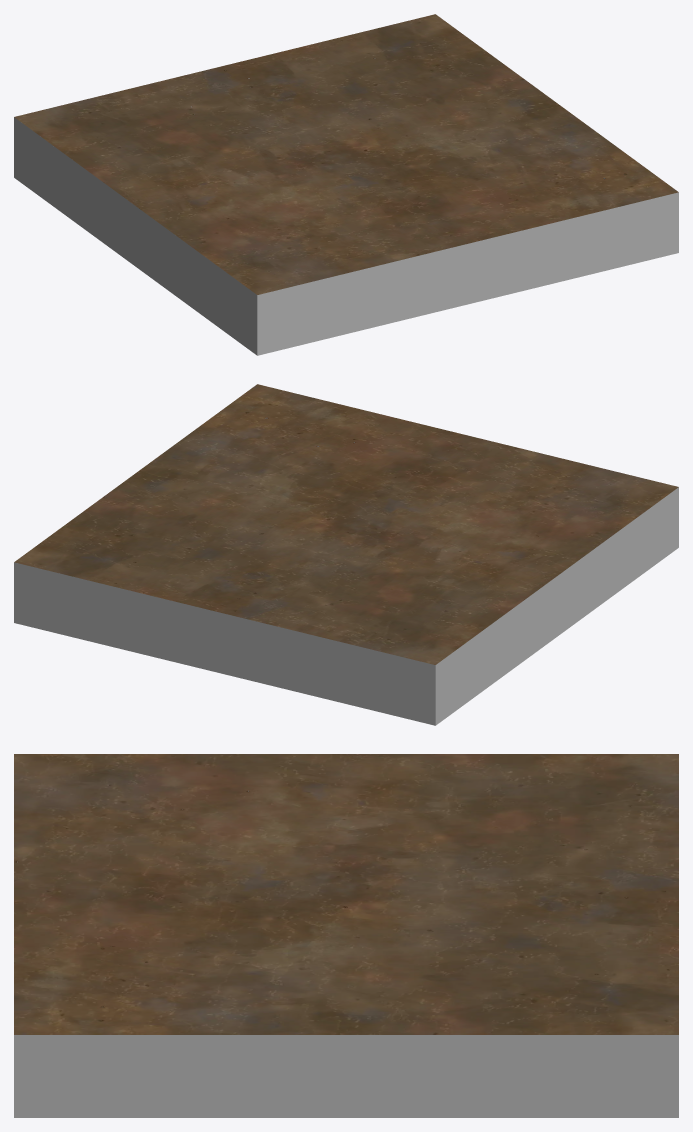
The picture shows the model from 3 angles, top to bottom: view 1: azimuth 30°, elevation 25°; view 2: azimuth 150°, elevation 25°; view 3: azimuth 270°, elevation 25°; orthographic projection. The views are drawn at different scales.
Visible parts, largest first — view 1: SM_Vault_4x4_Ceiling_01_LOD0; view 2: SM_Vault_4x4_Ceiling_01_LOD0; view 3: SM_Vault_4x4_Ceiling_01_LOD0.
Part boxes in pixels (left/top/right/bottom): SM_Vault_4x4_Ceiling_01_LOD0: left=14, top=14, right=678, bottom=355; SM_Vault_4x4_Ceiling_01_LOD0: left=14, top=384, right=678, bottom=725; SM_Vault_4x4_Ceiling_01_LOD0: left=14, top=754, right=678, bottom=1117.
Bounding box in the file's own units: 4 × 0.5675 × 4.
